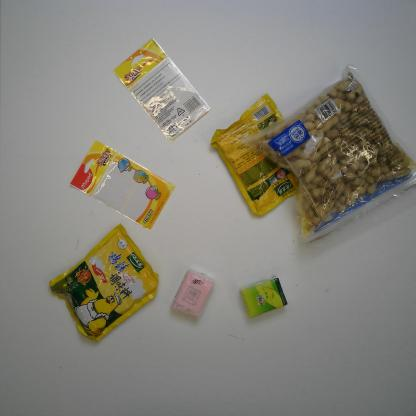Dried Food: (233, 60, 416, 254)
Seasoner: (46, 221, 161, 346), (208, 93, 310, 220)
Stationery: (111, 35, 212, 143), (67, 138, 178, 234)
Tissue: (238, 274, 290, 322), (170, 267, 217, 320)
